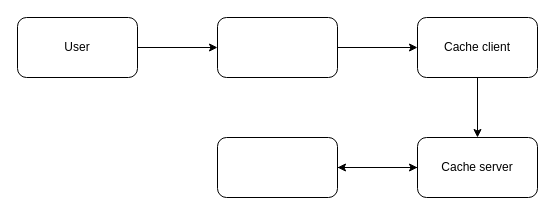
Image size: 555x215. Some labels were removed from this diagram. The shapes that lost their labels are listed below. From the top down, each one's box as (x1, y1, x2, y2) in pixels, then its label:
(216, 16, 338, 78): Load balancer
(216, 136, 338, 198): DB
